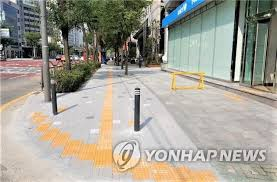guide_blocks: (149, 165, 215, 182), (69, 141, 111, 167), (99, 99, 112, 140), (45, 129, 67, 145), (35, 114, 49, 131)
